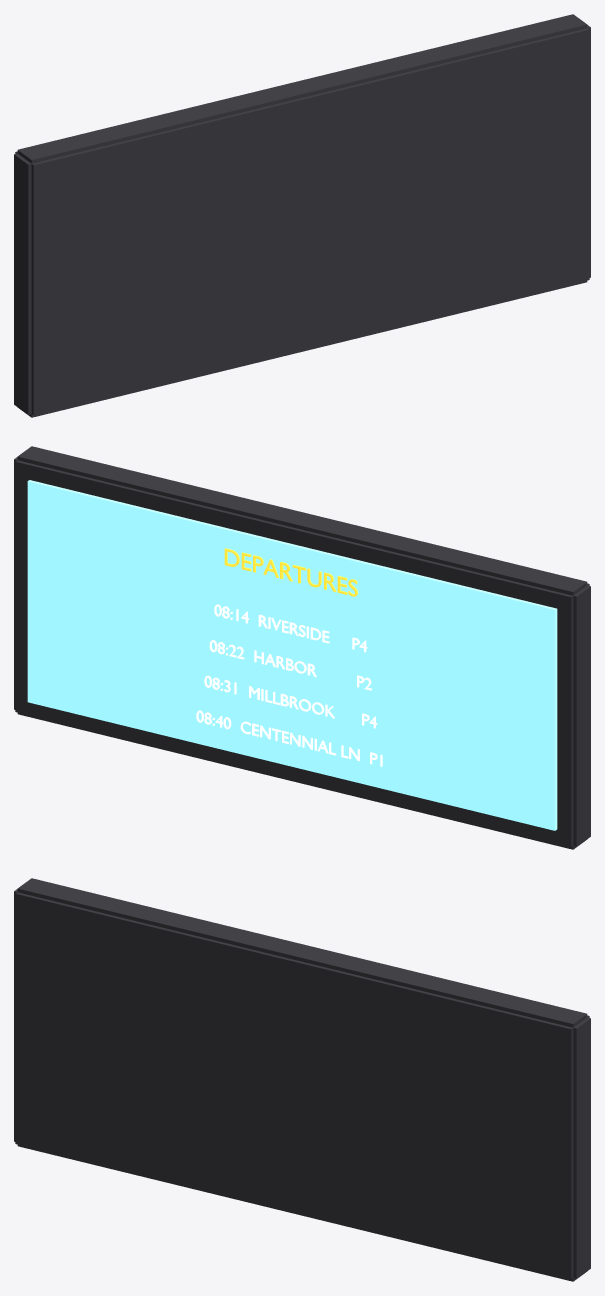
The model's file is departures_board.glb.
3 views of the same model, one above another, from view 1: azimuth 30°, elevation 25°; view 2: azimuth 150°, elevation 25°; view 3: azimuth 330°, elevation 25° (orthographic).
Visible parts, largest first — view 1: departures_board; view 2: departures_board; view 3: departures_board.
Boxes of the visible parts, x1,y1,x2,y2 form: departures_board: (14, 14, 590, 417); departures_board: (14, 446, 590, 849); departures_board: (14, 878, 590, 1281).
Size of the model in its own units: 3.2 by 1.4 by 0.209.
